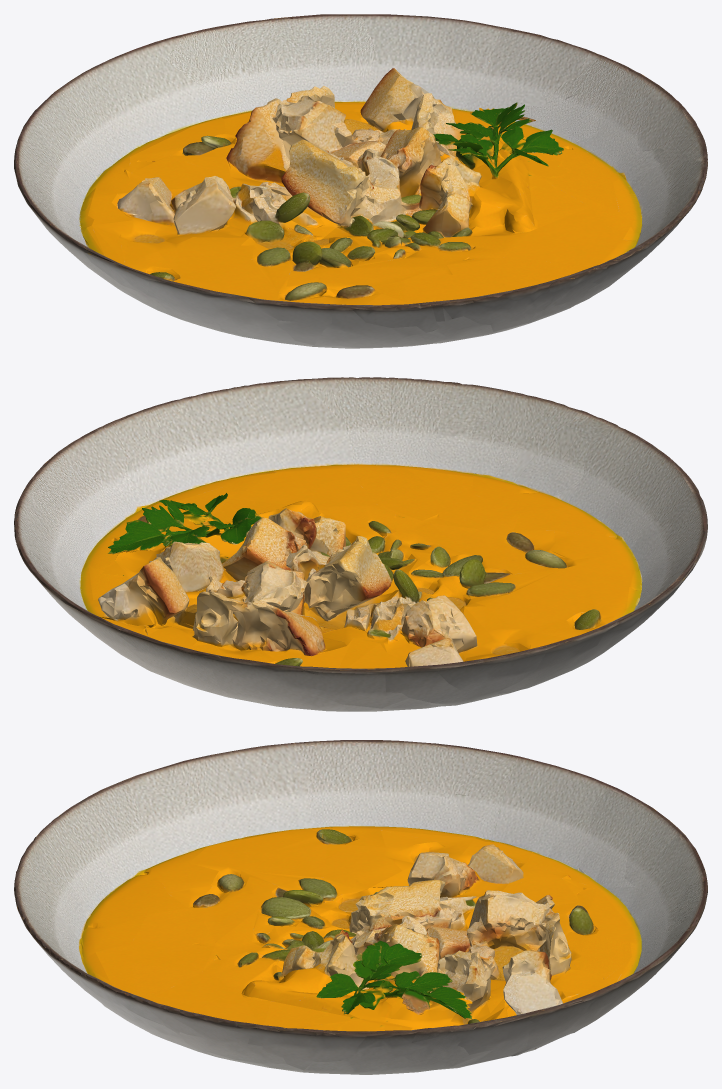
File: dish.glb
3 renders of one model, top to bottom at view 1: azimuth 30°, elevation 25°; view 2: azimuth 150°, elevation 25°; view 3: azimuth 270°, elevation 25°, orthographic.
Parts seen in each view (by area): view 1: mesh_node; view 2: mesh_node; view 3: mesh_node.
Boxes of the visible parts, x1=… form: mesh_node: x1=14, y1=14, x2=707, y2=348; mesh_node: x1=14, y1=377, x2=707, y2=711; mesh_node: x1=14, y1=740, x2=707, y2=1074.
Size of the model in its own units: 1.9 by 0.2607 by 1.9.
1 material, 1 textured.
